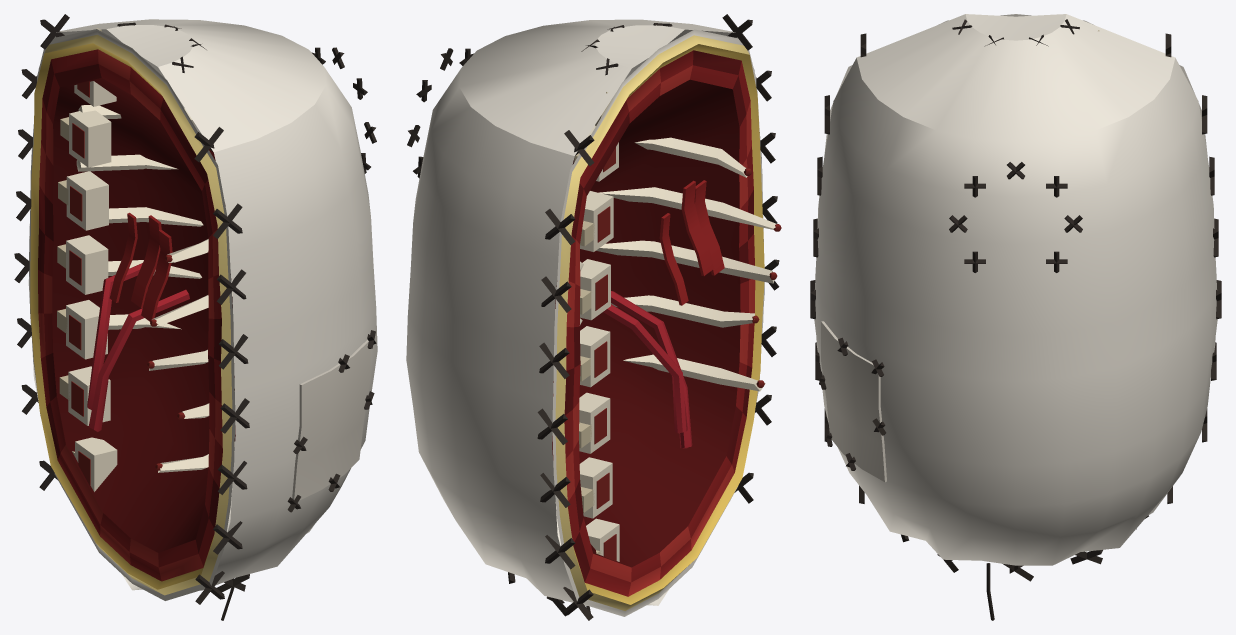
The model's file is survivor_torso_L.glb.
The picture shows the model from 3 angles, left to right: view 1: azimuth 30°, elevation 25°; view 2: azimuth 150°, elevation 25°; view 3: azimuth 270°, elevation 25°; orthographic projection. The views are drawn at different scales.
Visible parts, largest first — view 1: survivor_torso_L; view 2: survivor_torso_L; view 3: survivor_torso_L.
Part boxes in pixels (x1,y1,x2,y2): survivor_torso_L: (14, 14, 377, 620); survivor_torso_L: (406, 14, 781, 620); survivor_torso_L: (810, 14, 1221, 620).
Bounding box in the file's own units: 0.2141 × 0.4367 × 0.2853.
